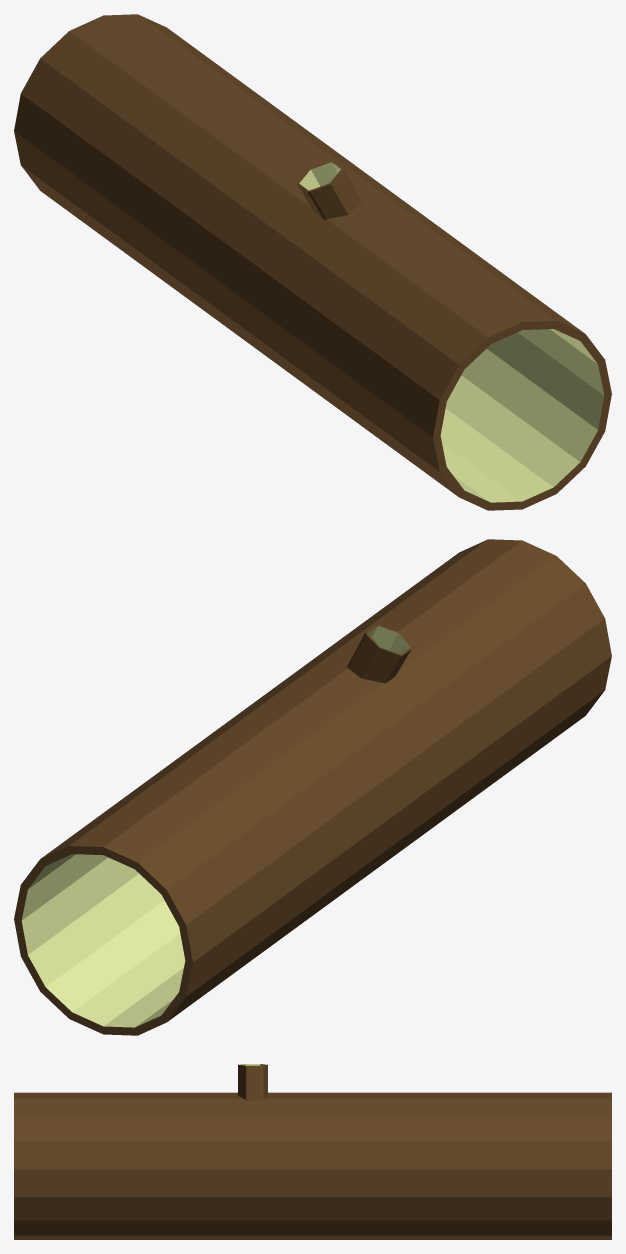
Rendered from Oak_log.glb.
3 renders of one model, top to bottom at view 1: azimuth 30°, elevation 25°; view 2: azimuth 150°, elevation 25°; view 3: azimuth 270°, elevation 25°, orthographic. The views are drawn at different scales.
Visible parts, largest first — view 1: Cylinder; view 2: Cylinder; view 3: Cylinder.
Boxes of the visible parts, x1,y1,x2,y2 form: Cylinder: [14, 14, 611, 510]; Cylinder: [14, 539, 611, 1035]; Cylinder: [14, 1064, 611, 1239].
Bounding box in the file's own units: 2 × 2.41 × 8.11.
